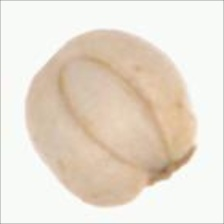L5: (59, 56, 171, 171), (139, 145, 198, 197)
L6: (23, 27, 202, 209)
